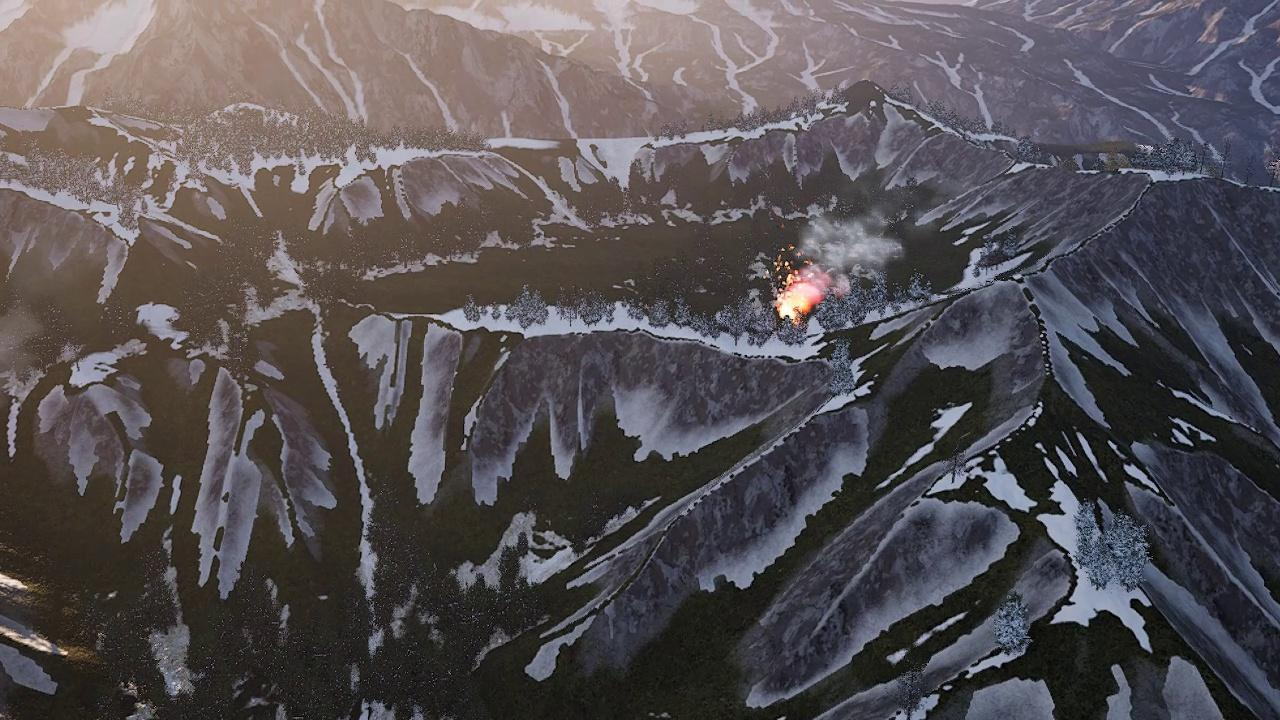fire: (762, 236, 818, 322)
smoke: (793, 207, 908, 296)
